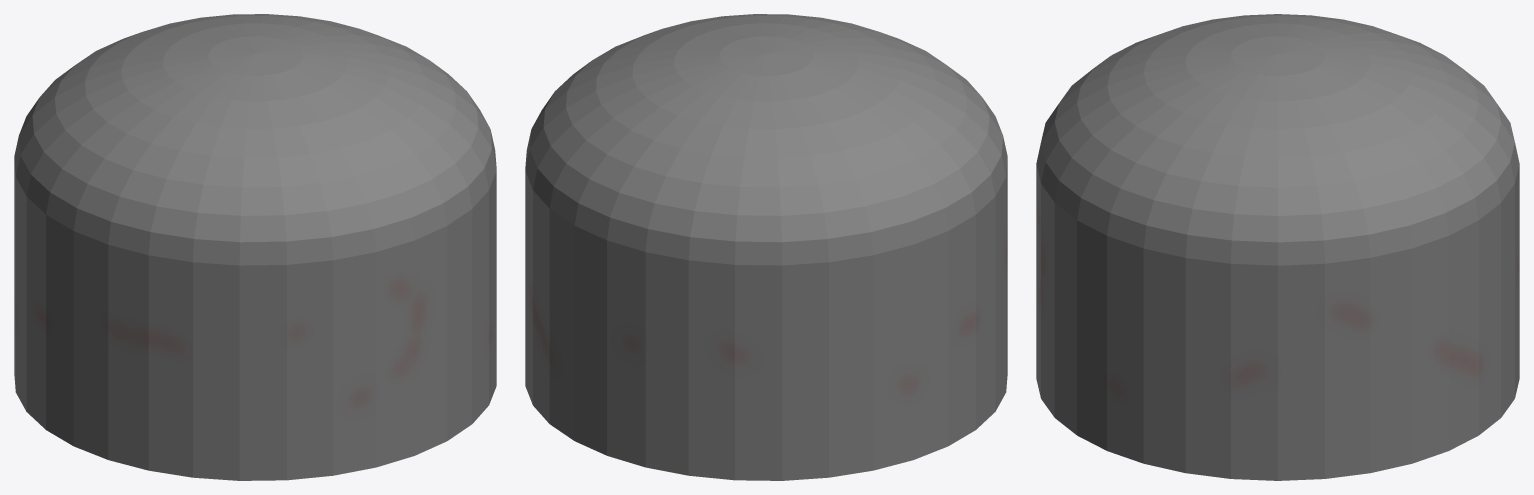
Rendered from dome.obj.
3 renders of one model, left to right at view 1: azimuth 30°, elevation 25°; view 2: azimuth 150°, elevation 25°; view 3: azimuth 270°, elevation 25°, orthographic.
Parts seen in each view (by area): view 1: loof; view 2: loof; view 3: loof.
Boxes of the visible parts, x1,y1,x2,y2 form: loof: (14,14,496,480); loof: (525,14,1007,480); loof: (1036,14,1519,480).
Bounding box in the file's own units: 160 × 119 × 160.
1 material, 1 textured.
